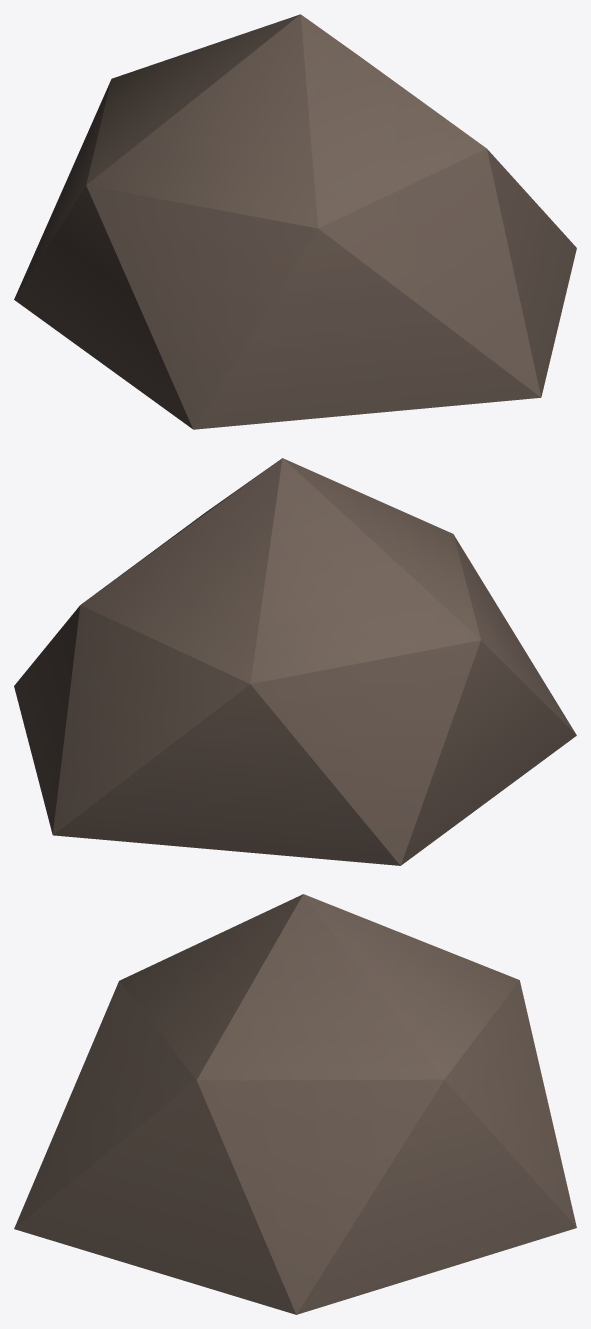
Rendered from kyc_trash_b.fbx.
3 views of the same model, one above another, from view 1: azimuth 30°, elevation 25°; view 2: azimuth 150°, elevation 25°; view 3: azimuth 270°, elevation 25° (orthographic). The views are drawn at different scales.
Parts seen in each view (by area): view 1: kyc_trash_b; view 2: kyc_trash_b; view 3: kyc_trash_b.
Boxes of the visible parts, left/top/right/bottom form: kyc_trash_b: left=14, top=14, right=576, bottom=429; kyc_trash_b: left=14, top=458, right=576, bottom=865; kyc_trash_b: left=14, top=894, right=576, bottom=1314.
Bounding box in the file's own units: 1.69 × 1 × 1.75.
